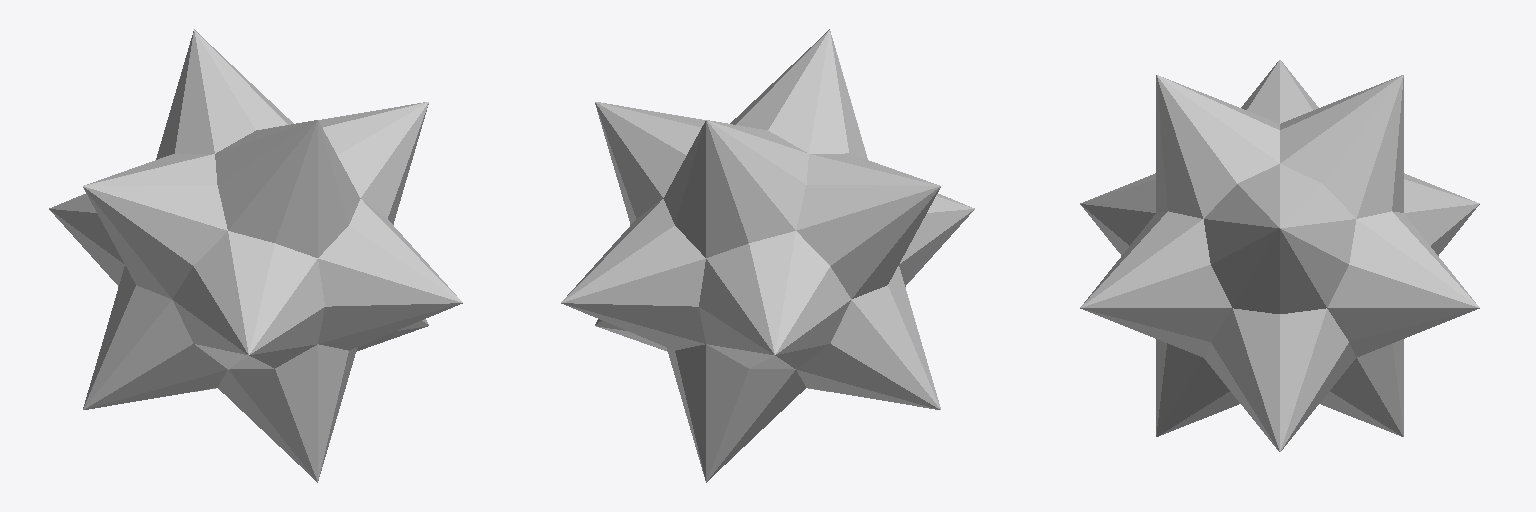
Rendered from SmallStellapentakisDodecahedron.obj.
3 views of the same model, side by side, from view 1: azimuth 30°, elevation 25°; view 2: azimuth 150°, elevation 25°; view 3: azimuth 270°, elevation 25° (orthographic).
Size of the model in its own units: 5.85 by 5.85 by 5.85.